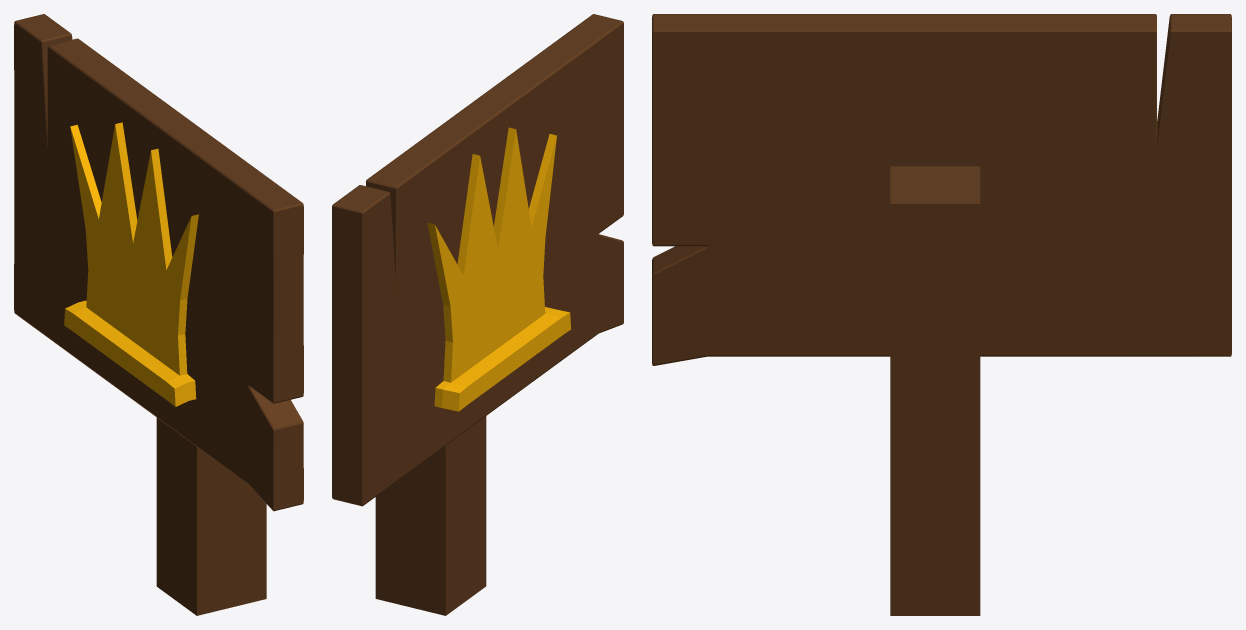
File: SM_Schild.fbx
The picture shows the model from 3 angles, left to right: view 1: azimuth 30°, elevation 25°; view 2: azimuth 150°, elevation 25°; view 3: azimuth 270°, elevation 25°; orthographic projection. The views are drawn at different scales.
Parts seen in each view (by area): view 1: Schild.001; view 2: Schild.001; view 3: Schild.001.
Part boxes in pixels (left/top/right/bottom): Schild.001: left=14, top=14, right=303, bottom=615; Schild.001: left=332, top=14, right=623, bottom=615; Schild.001: left=652, top=14, right=1231, bottom=615.
Bounding box in the file's own units: 25.53 × 97.69 × 93.68.
